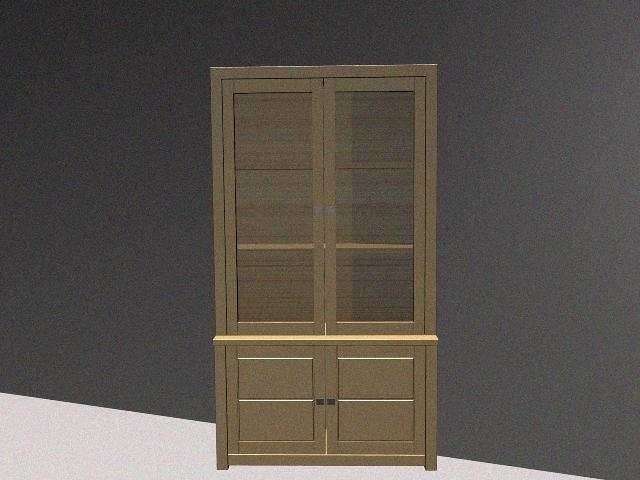cabinet_door: (325, 77, 426, 334), (224, 79, 325, 334), (326, 346, 426, 454), (227, 346, 326, 454)
handle: (310, 204, 324, 217), (328, 203, 338, 216), (315, 396, 325, 407), (326, 397, 337, 407)
